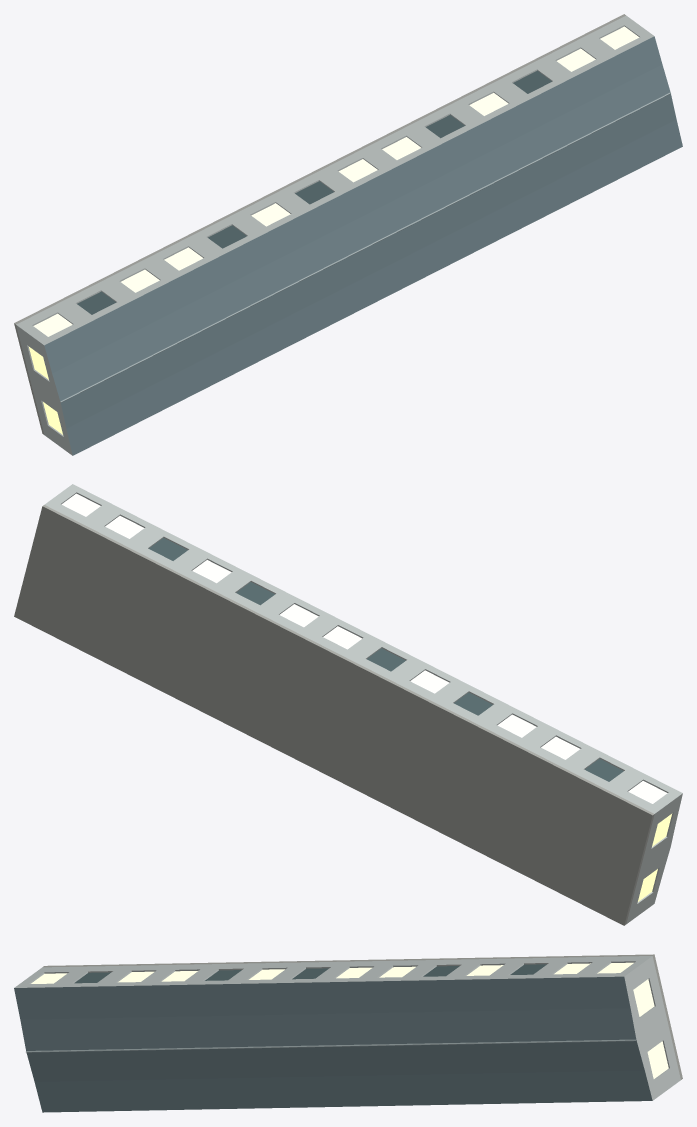
The model's file is industrial-mid.glb.
The picture shows the model from 3 angles, top to bottom: view 1: azimuth 30°, elevation 25°; view 2: azimuth 150°, elevation 25°; view 3: azimuth 330°, elevation 25°; orthographic projection.
Parts seen in each view (by area): view 1: way/1309969566; view 2: way/1309969566; view 3: way/1309969566.
Part boxes in pixels (x1,y1,x2,y2): way/1309969566: (14, 14, 682, 455); way/1309969566: (14, 484, 682, 925); way/1309969566: (14, 954, 682, 1112).
Size of the model in its own units: 112 by 46.53 by 9.95.
